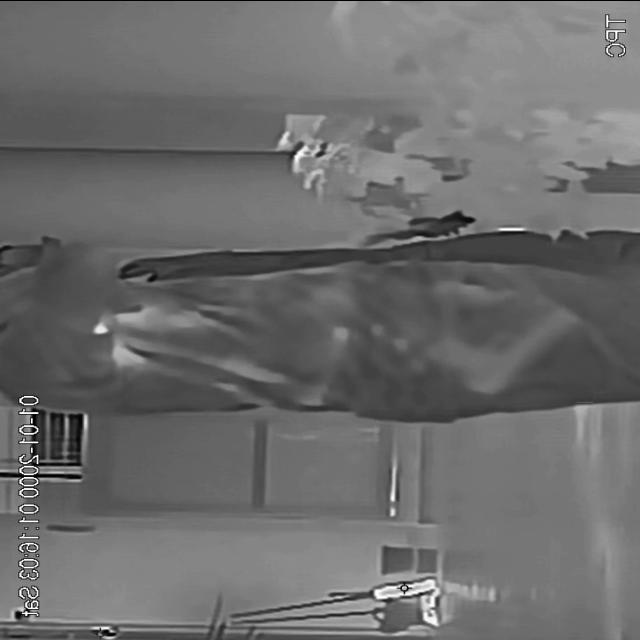Weapon: (418, 286, 593, 404)
